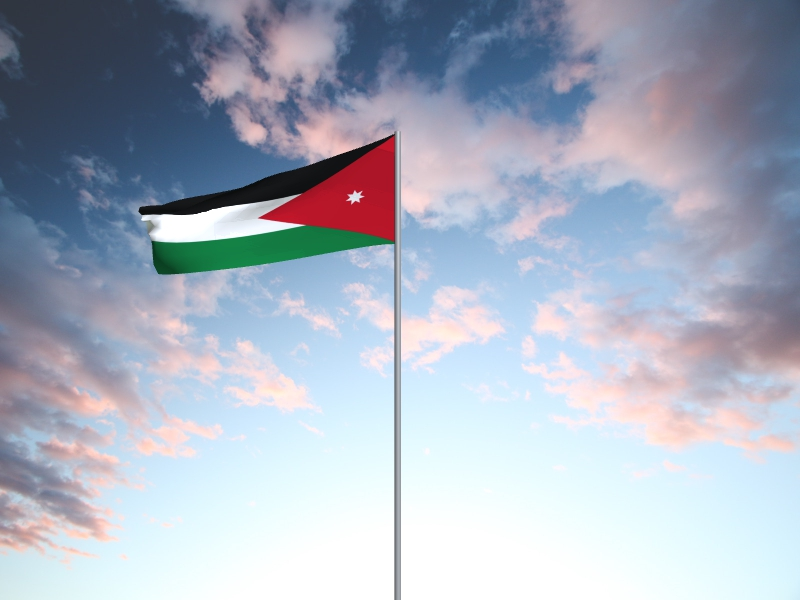jo: (138, 135, 395, 276)
